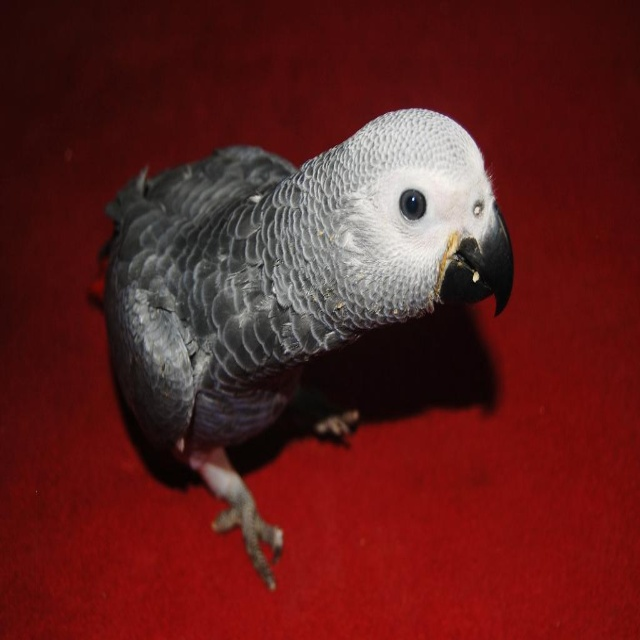Parrot: (89, 108, 514, 591)
